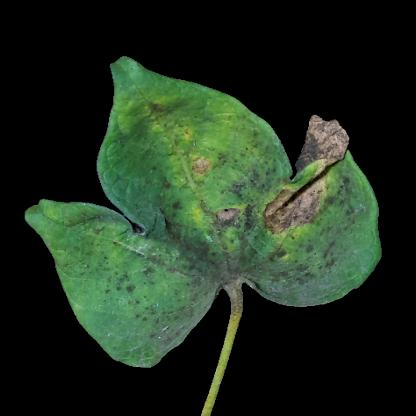curl_stage1: (114, 88, 201, 148), (200, 111, 252, 151), (169, 144, 213, 180)
healthy: (101, 167, 155, 211)
sooty: (162, 196, 347, 287), (133, 295, 205, 345), (97, 259, 153, 309), (216, 158, 284, 198), (295, 122, 347, 166)
